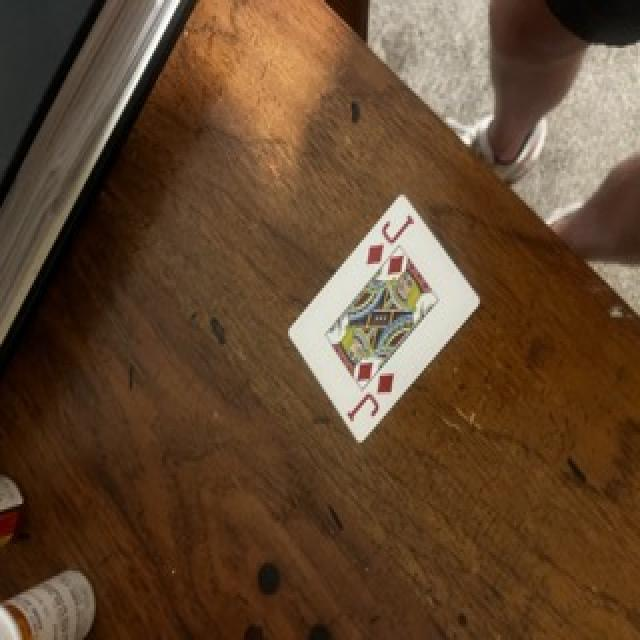Jack of diamonds: (290, 195, 479, 442)
